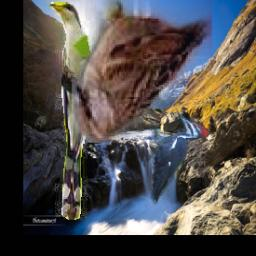Cuckoo: (47, 3, 90, 221)
Sparrow: (73, 0, 213, 143)
Woodpecker: (149, 109, 209, 206)
